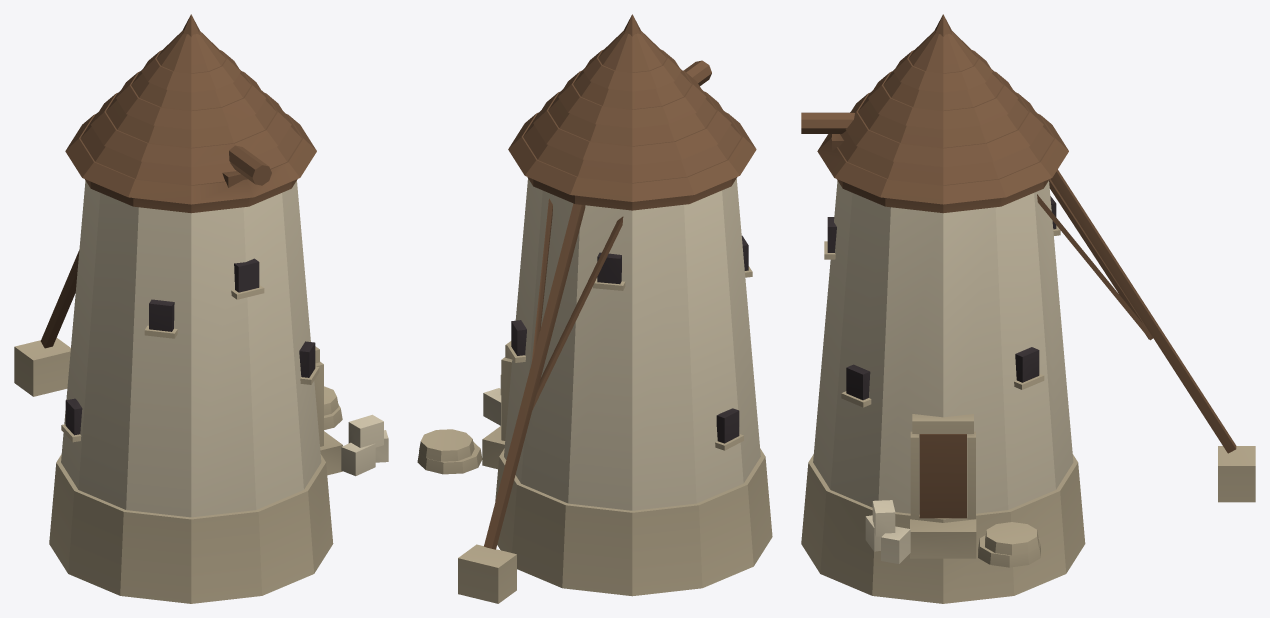
The model's file is windmill.glb.
3 views of the same model, side by side, from view 1: azimuth 30°, elevation 25°; view 2: azimuth 150°, elevation 25°; view 3: azimuth 270°, elevation 25° (orthographic).
Parts seen in each view (by area): view 1: windmill; view 2: windmill; view 3: windmill.
Part boxes in pixels (x1,y1,x2,y2): windmill: (14,14,388,603); windmill: (417,14,772,603); windmill: (801,14,1255,603).
Size of the model in its own units: 7.4 by 12.35 by 9.6.
